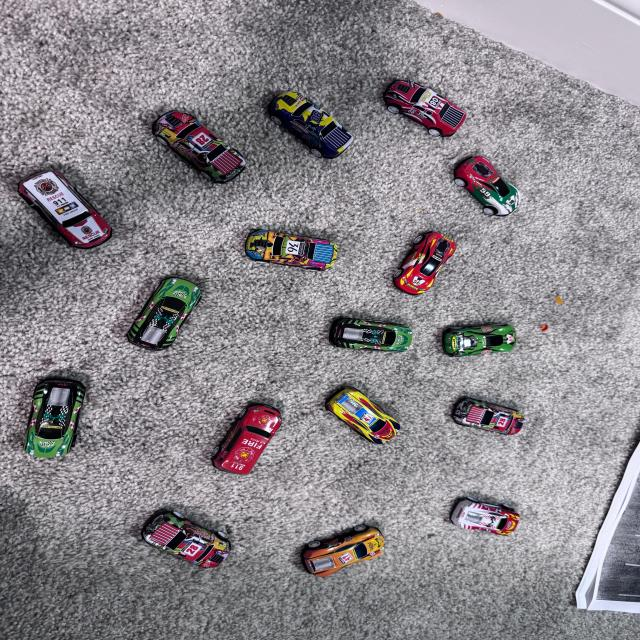Car: (86, 254, 224, 363), (422, 374, 580, 466), (128, 99, 261, 202), (106, 500, 256, 590), (8, 150, 118, 260), (249, 57, 355, 162), (185, 368, 276, 486), (362, 208, 473, 304), (284, 296, 426, 368), (424, 148, 544, 229), (366, 49, 472, 138), (311, 378, 431, 451), (428, 484, 536, 547), (424, 294, 520, 364), (18, 363, 84, 463), (286, 500, 376, 572), (240, 221, 352, 271)
